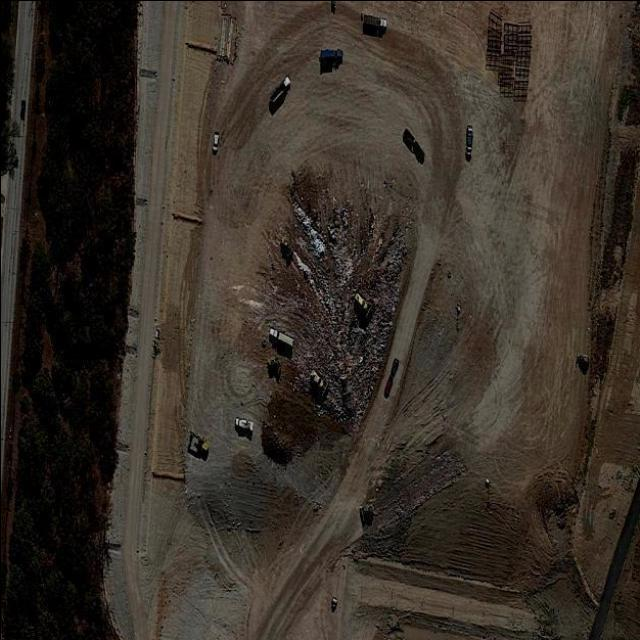dump_site: (263, 182, 418, 338), (284, 314, 386, 431)
